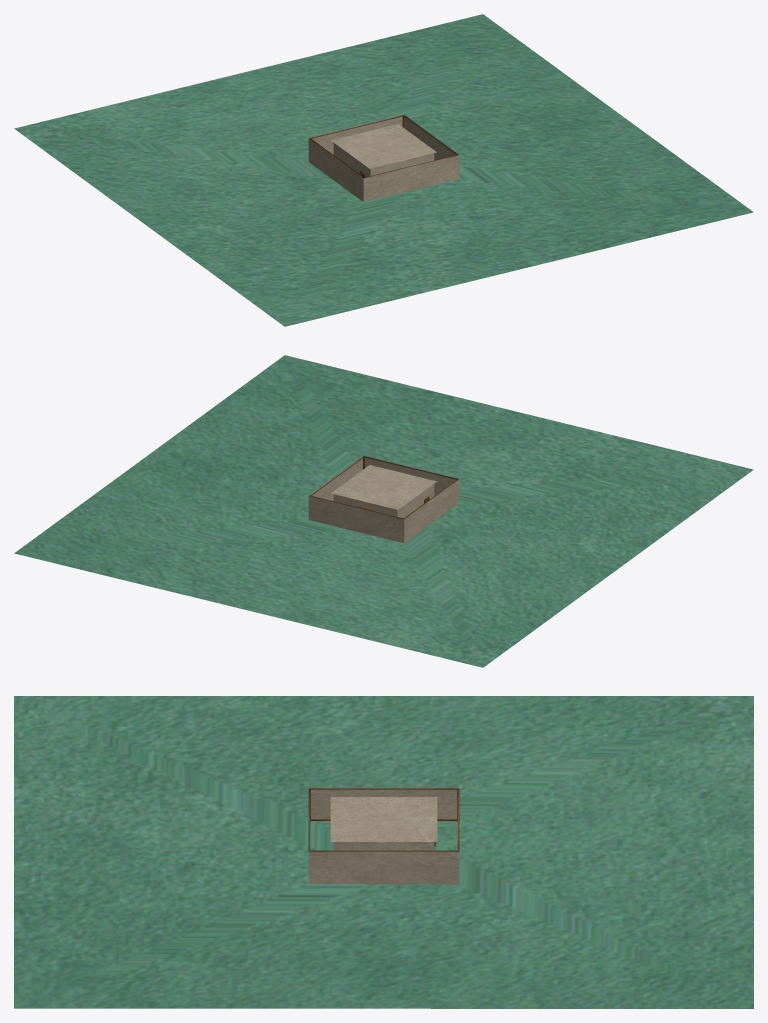
The model's file is Bedroom_Ceiling.fbx.
The picture shows the model from 3 angles, top to bottom: view 1: azimuth 30°, elevation 25°; view 2: azimuth 150°, elevation 25°; view 3: azimuth 270°, elevation 25°; orthographic projection. The views are drawn at different scales.
Visible parts, largest first — view 1: Bedroom_Base_Z; view 2: Bedroom_Base_Z; view 3: Bedroom_Base_Z.
Boxes of the visible parts, x1,y1,x2,y2 form: Bedroom_Base_Z: [14, 14, 753, 326]; Bedroom_Base_Z: [14, 355, 753, 667]; Bedroom_Base_Z: [14, 696, 753, 1008].
Size of the model in its own units: 6290 by 308 by 6290.
